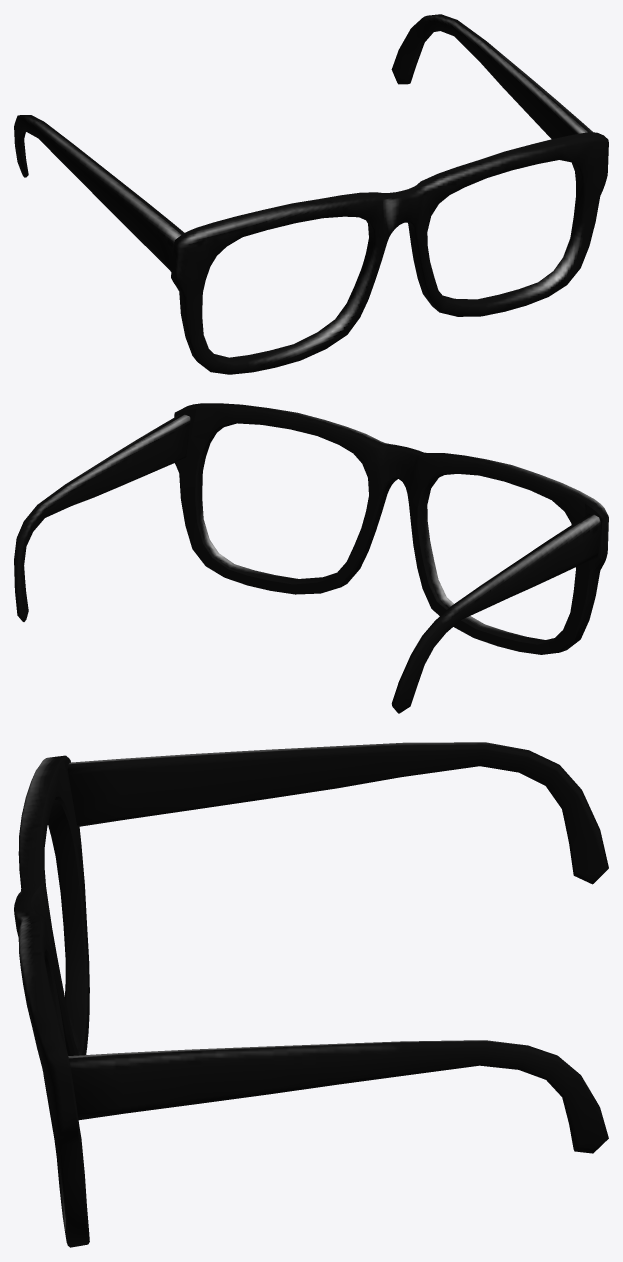
3 renders of one model, top to bottom at view 1: azimuth 30°, elevation 25°; view 2: azimuth 150°, elevation 25°; view 3: azimuth 270°, elevation 25°, orthographic. The views are drawn at different scales.
Parts seen in each view (by area): view 1: GLASSES_34.001; view 2: GLASSES_34.001; view 3: GLASSES_34.001.
Part boxes in pixels (x1=…): GLASSES_34.001: x1=14, y1=14, x2=608, y2=374; GLASSES_34.001: x1=14, y1=403, x2=608, y2=713; GLASSES_34.001: x1=14, y1=742, x2=608, y2=1247.
Size of the model in its own units: 0.00194 by 0.000721 by 0.00158.
1 material, 1 textured.
